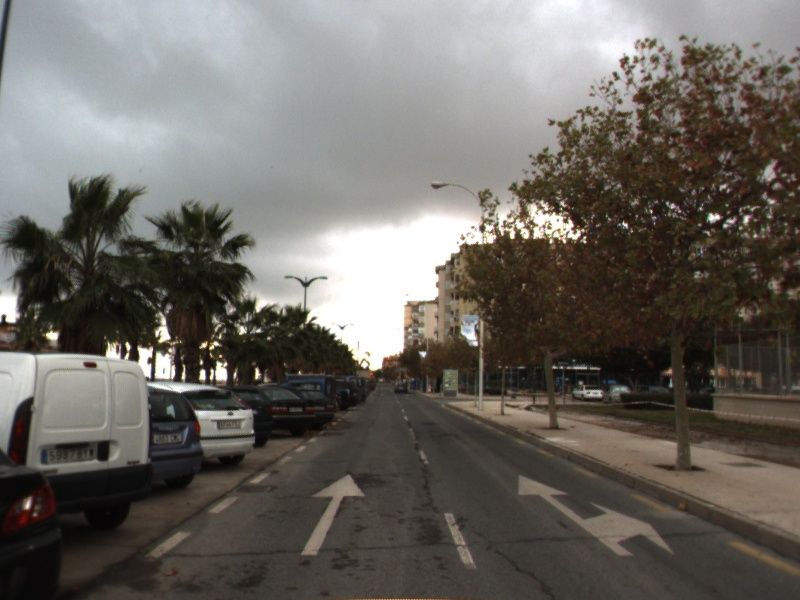STRAIGHT: (300, 472, 368, 557)
STRAIGHT_RIGHT: (517, 473, 679, 558)
